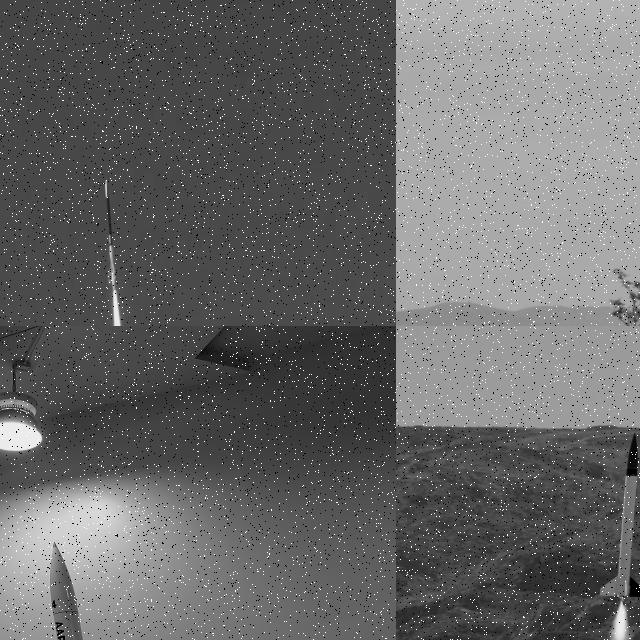Rocket: (597, 431, 640, 598), (49, 542, 84, 640), (103, 179, 118, 290)
